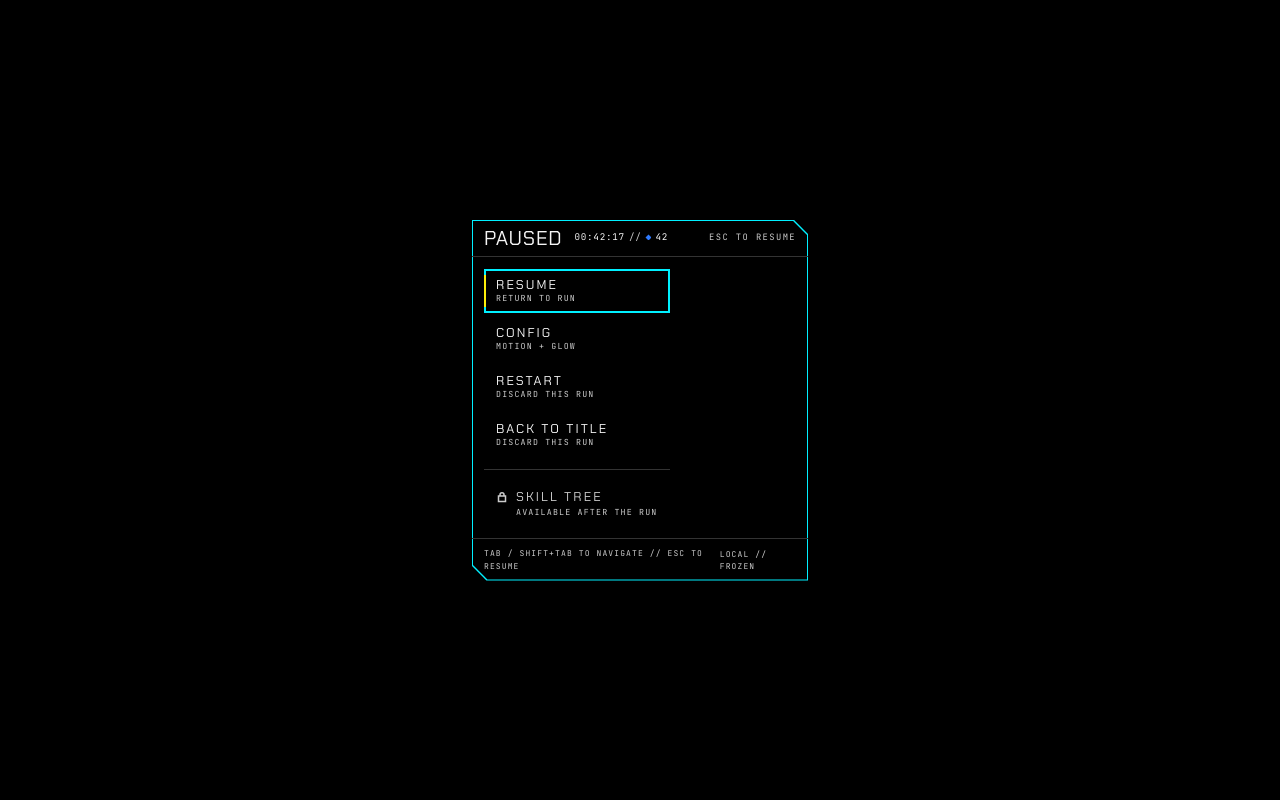
PauseMenu › renders instantly under the in-app reduced-motion setting
The image size is (1280, 800).
Step 1. Click the button "CONFIG MOTION + GLOW" → coordinates (577, 338), box [484,316,670,360]
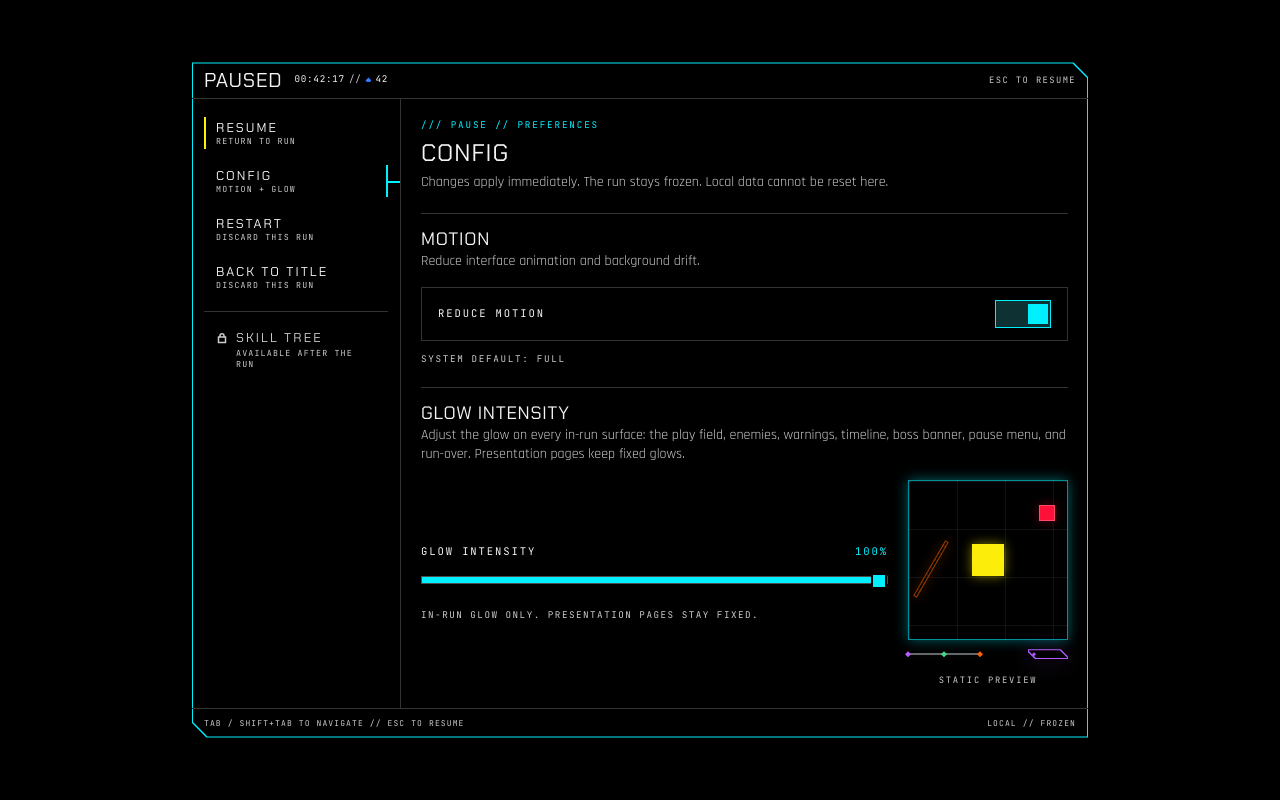
Expected: the text "SYSTEM DEFAULT: FULL" is shown, [421,353,566,365]
